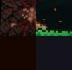helmet: (0, 36, 36, 70)
legs: (36, 36, 72, 70)
spider: (0, 0, 36, 36)
